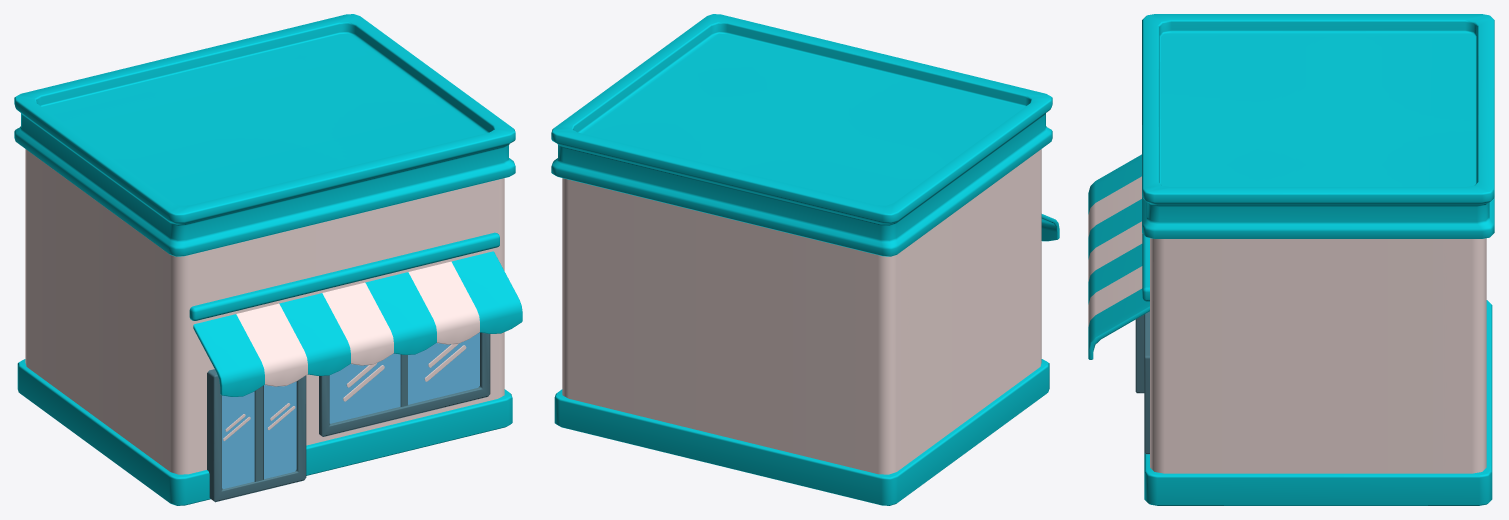
The model's file is Public_13_Laundry_1.glb.
The picture shows the model from 3 angles, left to right: view 1: azimuth 30°, elevation 25°; view 2: azimuth 150°, elevation 25°; view 3: azimuth 270°, elevation 25°; orthographic projection. The views are drawn at different scales.
Visible parts, largest first — view 1: Public_13_Laundry_1; view 2: Public_13_Laundry_1; view 3: Public_13_Laundry_1.
Boxes of the visible parts, x1=… form: Public_13_Laundry_1: x1=14, y1=14, x2=522, y2=505; Public_13_Laundry_1: x1=551, y1=14, x2=1059, y2=505; Public_13_Laundry_1: x1=1088, y1=14, x2=1494, y2=505.
Size of the model in its own units: 8.15 by 6.62 by 7.75.
Materials: 1 (1 with a texture image).
